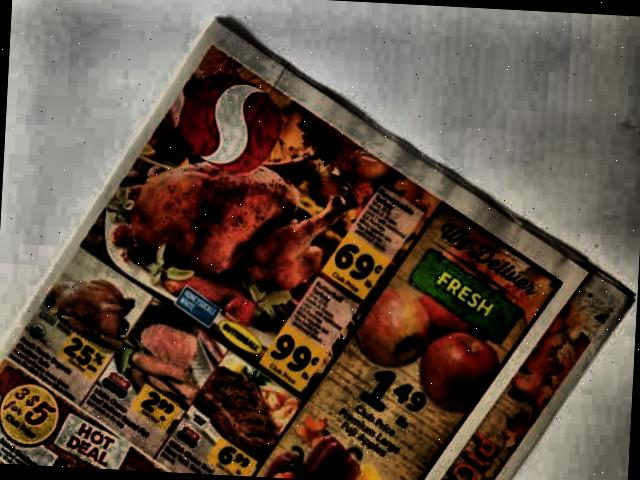Paper: (0, 7, 640, 480)
